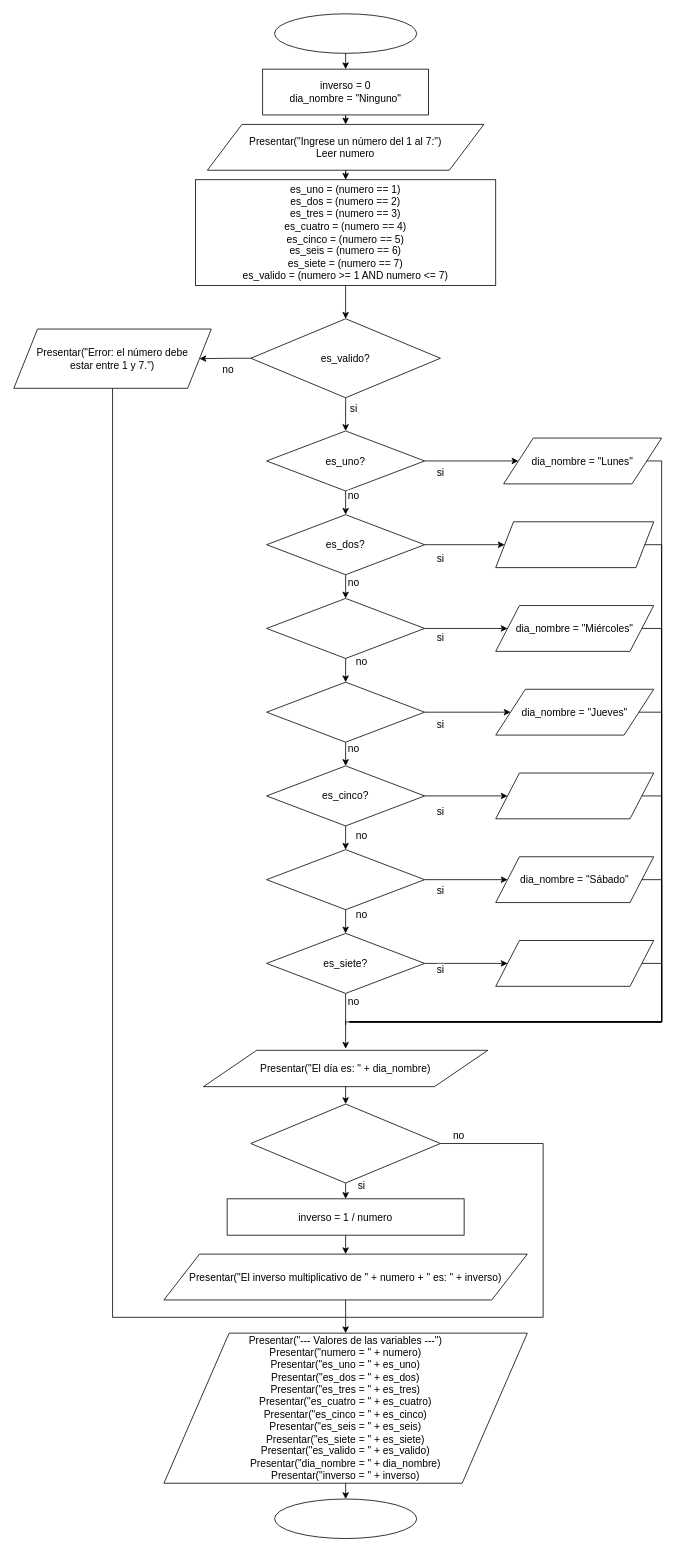
Image size: 676x1552. Some labels were removed from this diagram. Here are the shapes that lost their labels. From the top down, the box of each, then its label:
(274, 13, 417, 53): inicio
(495, 521, 654, 568): dia_nombre = "Martes"
(266, 598, 425, 658): es_tres?
(266, 681, 425, 742): es_cuatro?
(495, 772, 654, 819): dia_nombre = "Viernes"
(266, 849, 425, 910): es_seis?
(495, 940, 654, 986): dia_nombre = "Domingo"
(250, 1103, 440, 1183): numero != 0?
(274, 1498, 417, 1539): fin
